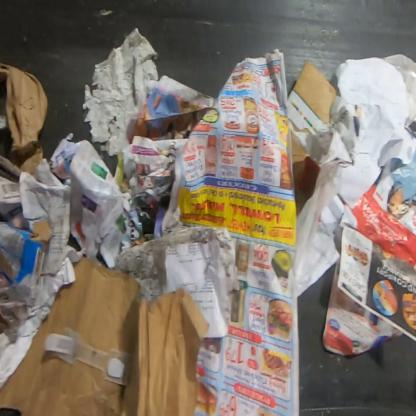cardboard: (0, 254, 210, 415), (0, 218, 56, 344), (0, 63, 48, 176), (287, 60, 339, 134), (292, 136, 321, 218)
